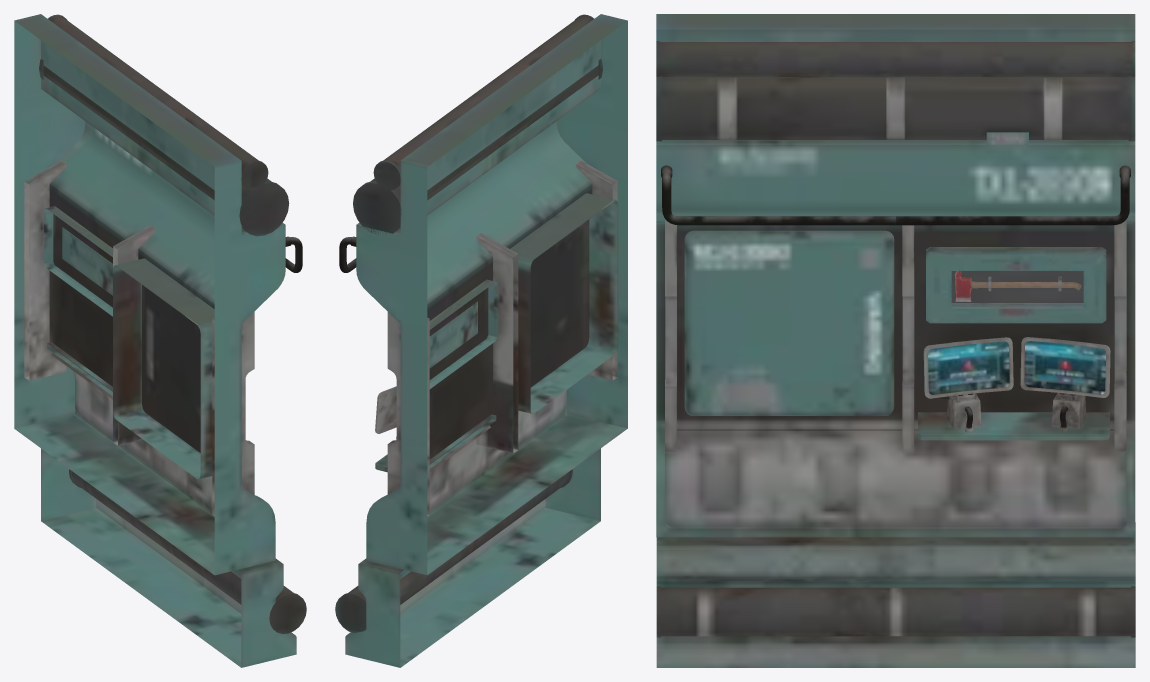
The model's file is wall-4.glb.
3 renders of one model, left to right at view 1: azimuth 30°, elevation 25°; view 2: azimuth 150°, elevation 25°; view 3: azimuth 270°, elevation 25°, orthographic. The views are drawn at different scales.
Visible parts, largest first — view 1: defaultMaterial; view 2: defaultMaterial; view 3: defaultMaterial.
Part boxes in pixels (box(x1,y1,x2,y2)): defaultMaterial: box(14, 14, 306, 667); defaultMaterial: box(335, 14, 627, 667); defaultMaterial: box(656, 14, 1135, 667).
Size of the model in its own units: 0.3897 by 2 by 1.43.
Materials: 1 (1 with a texture image).
